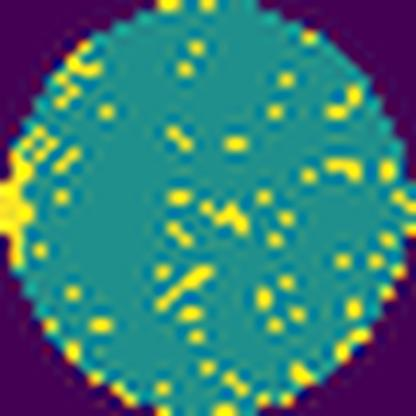Edge-Loc: (0, 121, 57, 272)
